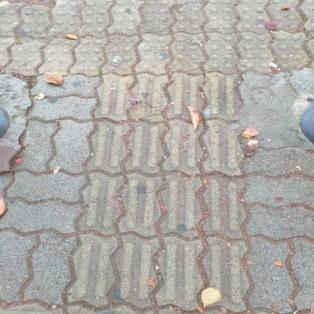Podoctatil: (59, 70, 263, 313), (0, 0, 313, 78)
